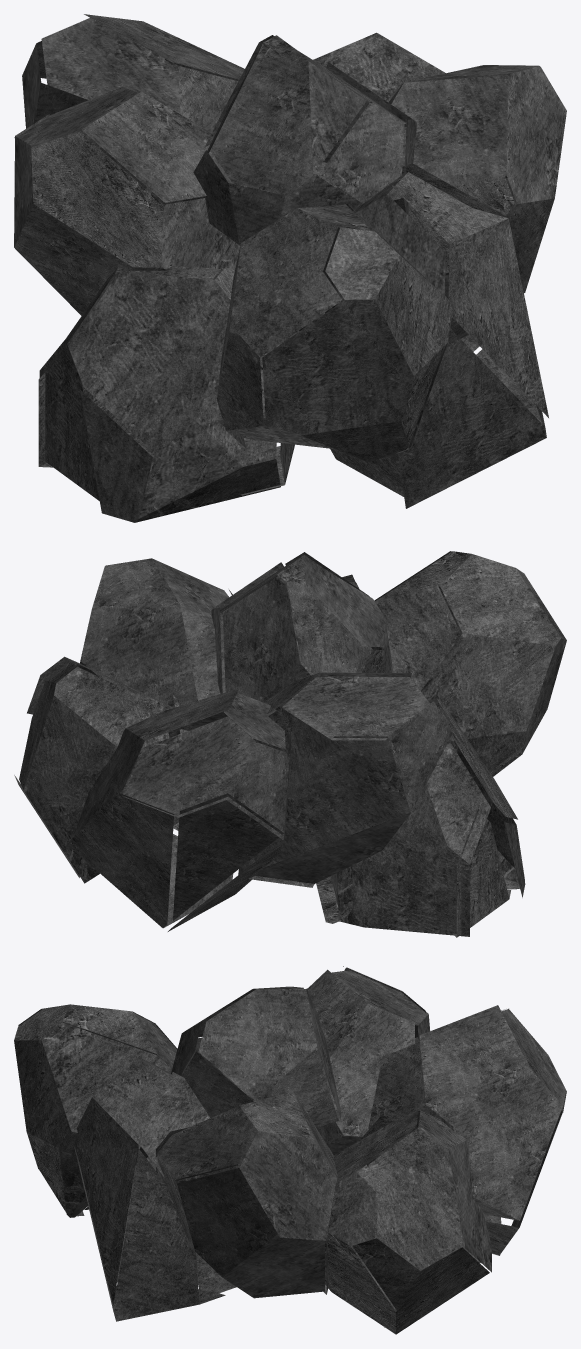
Rendered from Stone1.obj.
3 renders of one model, top to bottom at view 1: azimuth 30°, elevation 25°; view 2: azimuth 150°, elevation 25°; view 3: azimuth 270°, elevation 25°, orthographic. The views are drawn at different scales.
Visible parts, largest first — view 1: Object015; view 2: Object015; view 3: Object015.
Part boxes in pixels (<box>): Object015: <box>14,14,566,522</box>; Object015: <box>14,551,566,937</box>; Object015: <box>14,966,566,1334</box>.
Bounding box in the file's own units: 170 × 130 × 213.
1 material, 1 textured.
